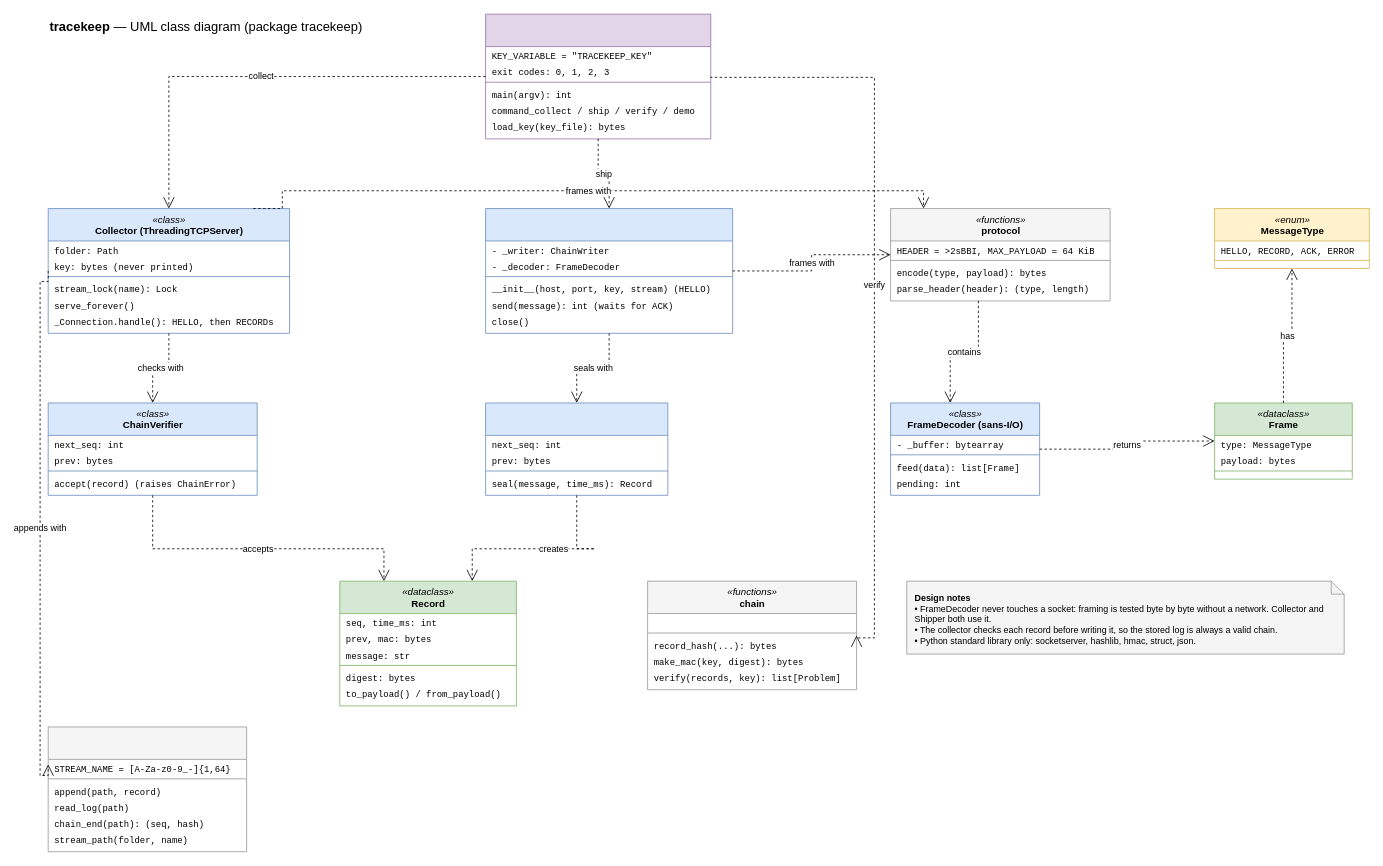
Some shapes in this 1383 by 866 pixel diagram are drawn without their labels. Each missing label, with the box of its shape:
«class» ChainWriter: (485, 402, 668, 495)
«class» Shipper: (485, 208, 733, 333)
«functions» storage: (47, 726, 247, 852)
«module» cli: (485, 13, 711, 139)
